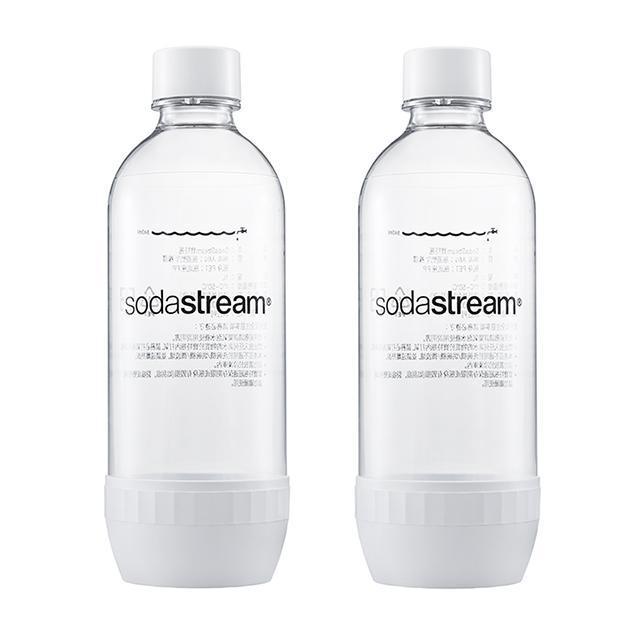bottle: (347, 35, 552, 594), (92, 42, 293, 594)
